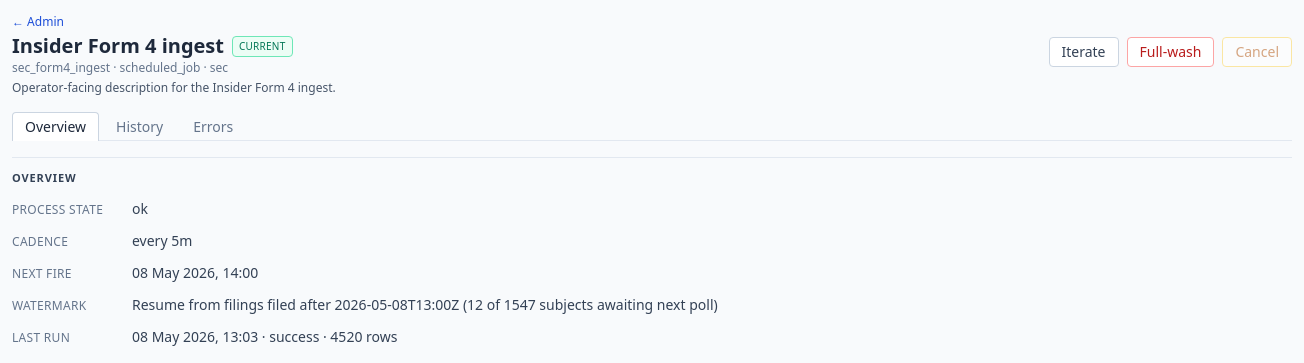
ProcessDetailPage › Errors tab states which counter it reads instead of denying all errors
The image size is (1304, 363).
Click the tab "Errors" at (213, 126), box [180, 112, 246, 141]
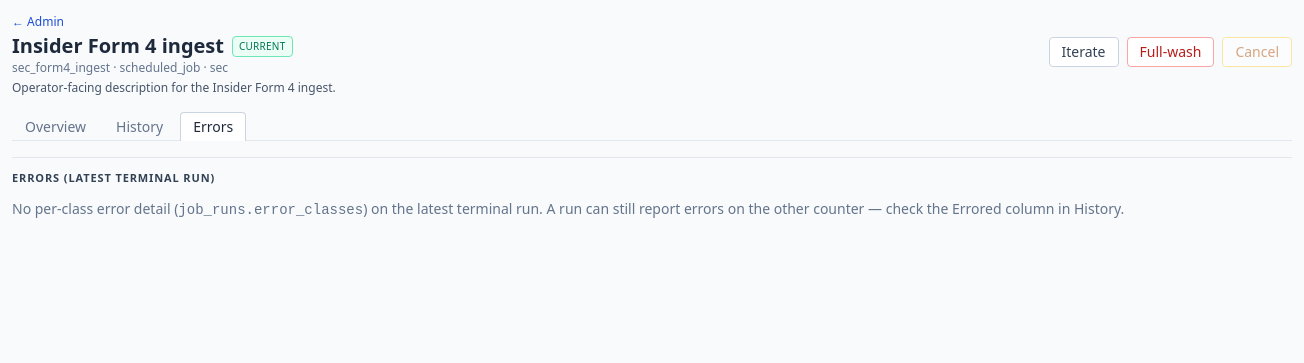
expect the text "job_runs.error_classes" is shown: met, box [178, 202, 363, 218]
